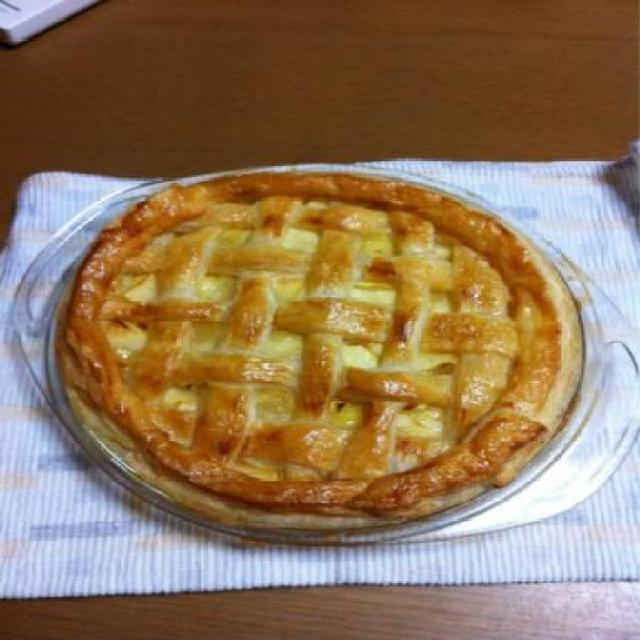Apple: (61, 182, 572, 538)
